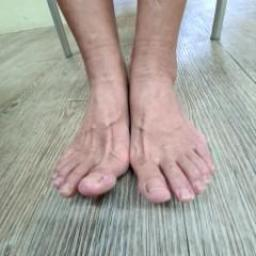Front View -Both Feet-: (37, 32, 222, 226)
